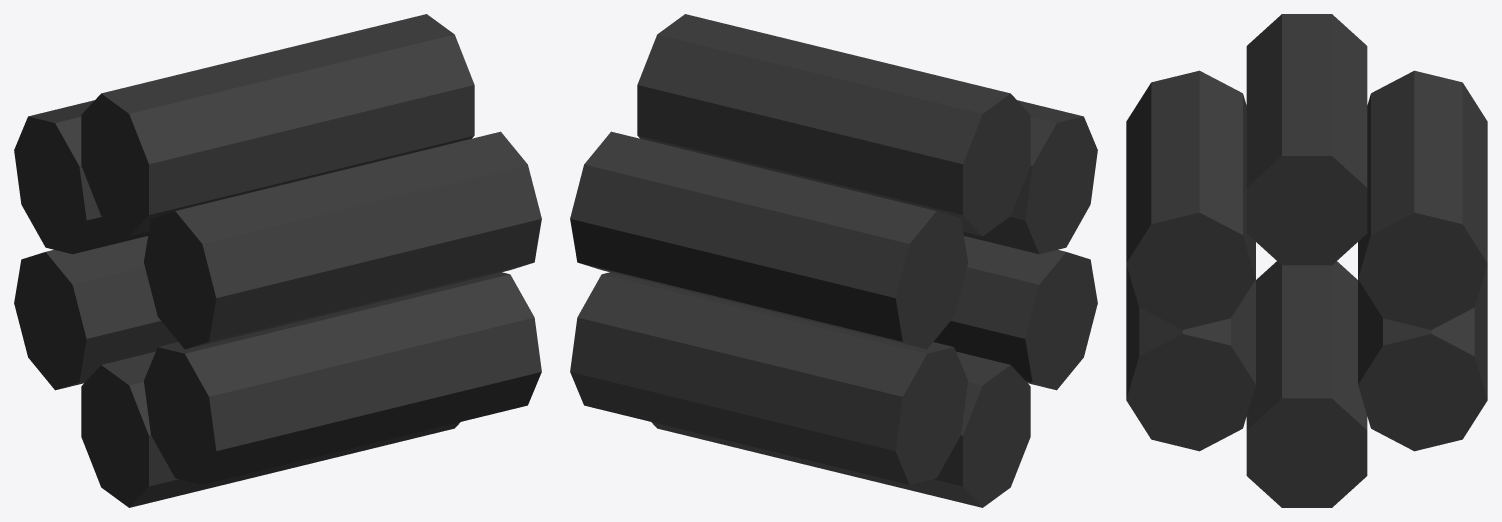
The model's file is HeavyWeapon1_03_2.fbx.
3 renders of one model, left to right at view 1: azimuth 30°, elevation 25°; view 2: azimuth 150°, elevation 25°; view 3: azimuth 270°, elevation 25°, orthographic. The views are drawn at different scales.
Parts seen in each view (by area): view 1: HeavyWeapon1_03_2; view 2: HeavyWeapon1_03_2; view 3: HeavyWeapon1_03_2.
Part boxes in pixels (<box>): HeavyWeapon1_03_2: <box>14,14,541,507</box>; HeavyWeapon1_03_2: <box>570,14,1097,507</box>; HeavyWeapon1_03_2: <box>1126,14,1487,507</box>.
Size of the model in its own units: 0.129 by 0.1491 by 0.1388.
